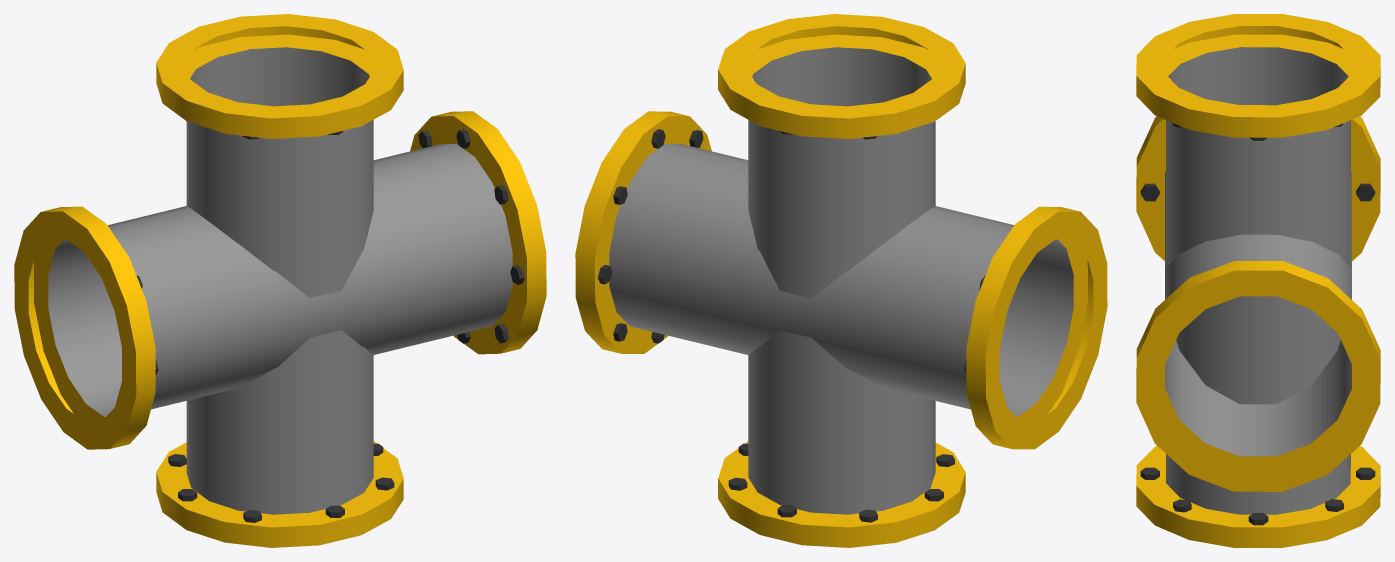
The model's file is pipe quad.fbx.
3 renders of one model, left to right at view 1: azimuth 30°, elevation 25°; view 2: azimuth 150°, elevation 25°; view 3: azimuth 270°, elevation 25°, orthographic.
Parts seen in each view (by area): view 1: Quad_Pipe; view 2: Quad_Pipe; view 3: Quad_Pipe.
Boxes of the visible parts, <box> form: Quad_Pipe: <box>14,14,546,547</box>; Quad_Pipe: <box>575,14,1107,547</box>; Quad_Pipe: <box>1136,14,1380,547</box>.
Bounding box in the file's own units: 62.82 × 62.82 × 32.28.
